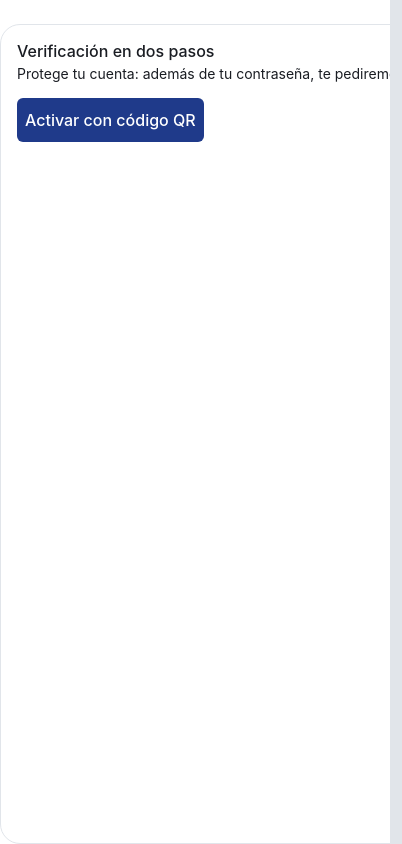
Test case: si no se puede generar el QR muestra el motivo o un mensaje genérico
This screenshot has width=402, height=844.
What coordinates should you click on to do the following:
click the button "Activar con código QR"
I would click on:
 (110, 120)
Its box is [17,98,204,142].
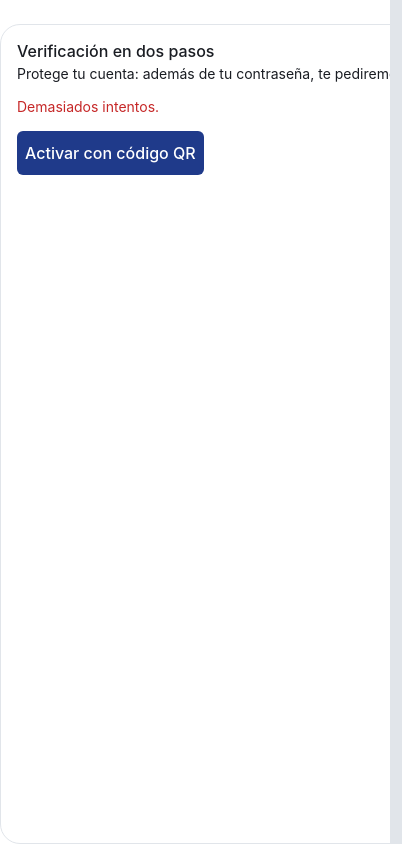
Expected: the text "Demasiados intentos." is shown, [17,98,159,115]
What coordinates should you click on to do the following:
click the button "Activar con código QR"
I would click on:
 (110, 153)
Its box is [17,131,204,175].
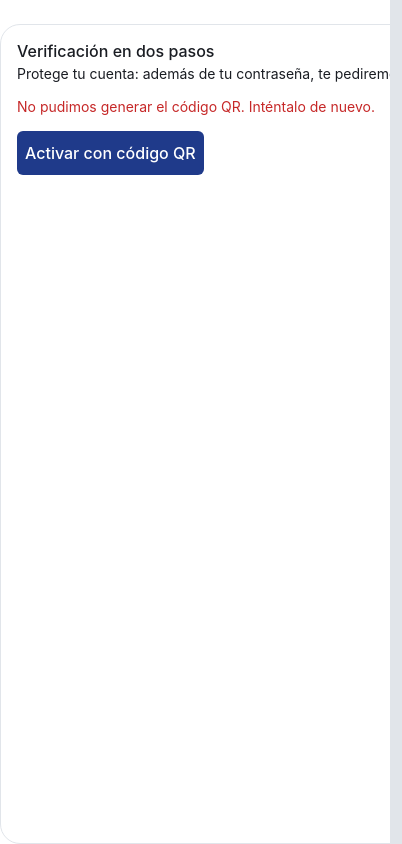
Expected: the text "No pudimos generar el código QR. Inténtalo de nuevo." is shown, [17,98,375,115]
